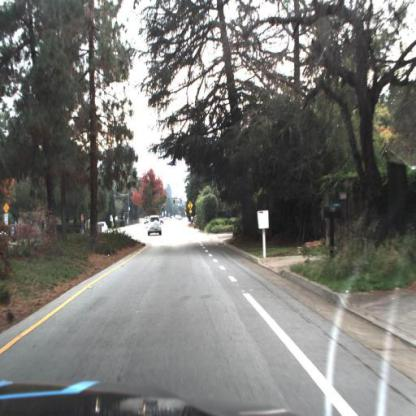car: (146, 214, 164, 239), (96, 220, 110, 235)
